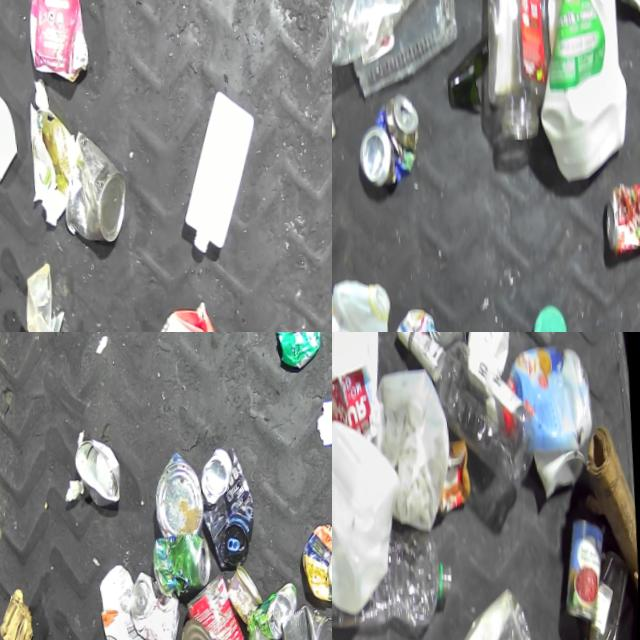can: (51, 114, 143, 277), (352, 89, 424, 209), (197, 448, 259, 575), (553, 520, 612, 639), (152, 453, 207, 543), (183, 575, 256, 640), (154, 533, 215, 603), (72, 432, 125, 510), (129, 568, 185, 640), (603, 168, 640, 266), (247, 586, 302, 640), (300, 524, 332, 612), (227, 567, 267, 630), (273, 332, 324, 376), (391, 299, 457, 332), (279, 605, 332, 640), (417, 332, 469, 357)
milk_jug: (525, 0, 634, 192), (332, 410, 406, 628)
non_white_jug: (495, 348, 597, 490)
plastic_bottle: (332, 535, 458, 640)
